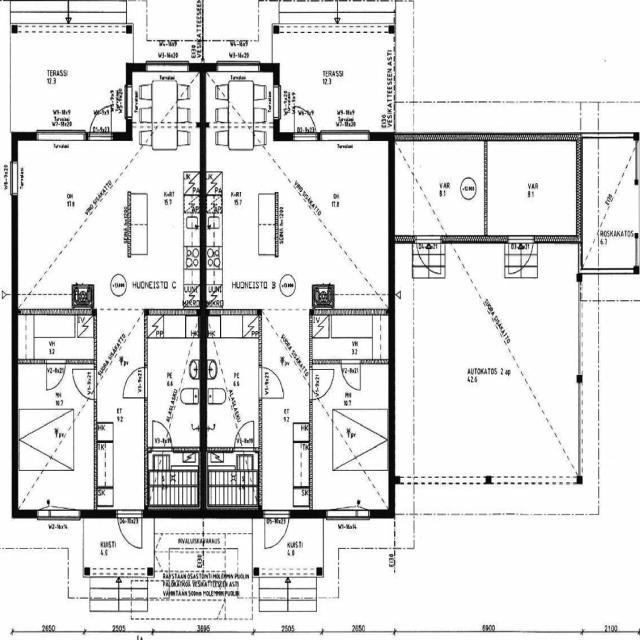door: (117, 509, 142, 553), (416, 235, 441, 278), (509, 234, 533, 278), (266, 510, 290, 552), (294, 101, 316, 141), (90, 102, 112, 140), (309, 369, 334, 400), (72, 369, 97, 400), (123, 368, 148, 397), (259, 368, 283, 398), (234, 420, 254, 452), (341, 359, 360, 392), (46, 360, 65, 390), (153, 421, 171, 452)
